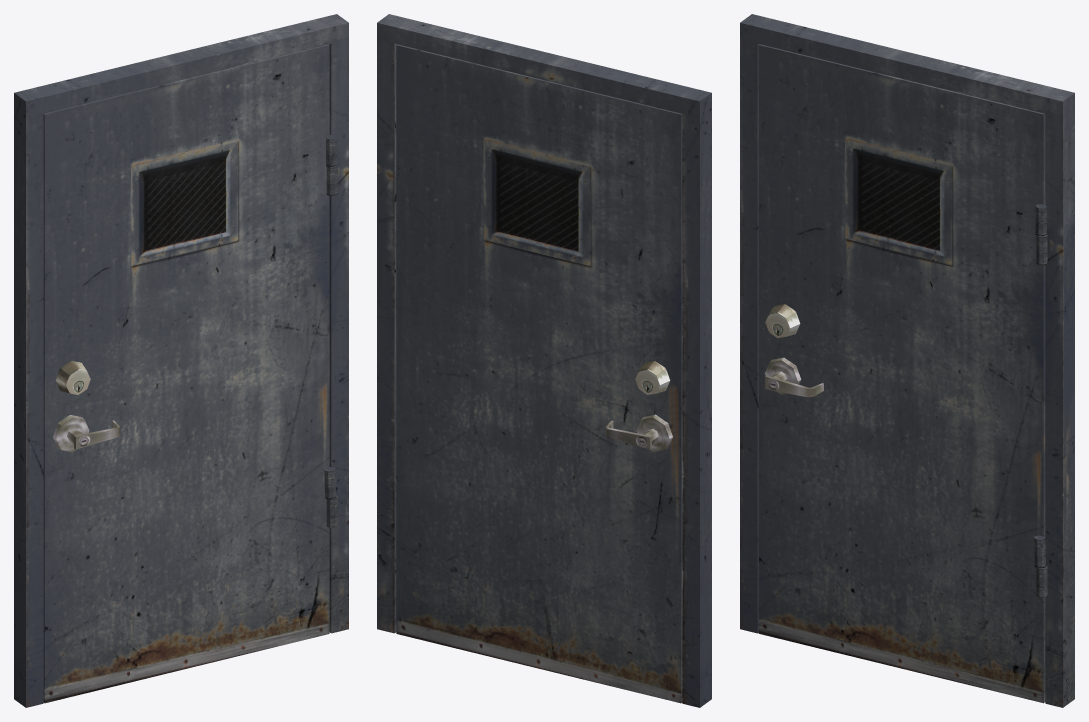
File: Door_18_Silver.glb
The picture shows the model from 3 angles, left to right: view 1: azimuth 30°, elevation 25°; view 2: azimuth 150°, elevation 25°; view 3: azimuth 330°, elevation 25°; orthographic projection.
Parts seen in each view (by area): view 1: door01, door_frame; view 2: door01, door_frame; view 3: door01, door_frame.
Part boxes in pixels (x1,y1,x2,y2): door01: [43, 44, 329, 703]; door_frame: [14, 14, 348, 707]; door01: [396, 44, 682, 703]; door_frame: [377, 14, 711, 707]; door01: [758, 44, 1045, 703]; door_frame: [740, 14, 1074, 707].
Bounding box in the file's own units: 1.16 × 2.08 × 0.2295.
1 material, 1 textured.
